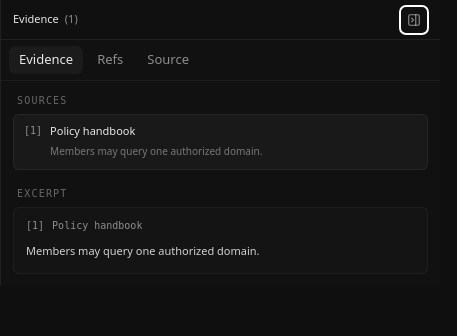
Test: chat inspector workbench (P9-03 Library enable) › keeps Open in Library disabled when opaque refs are missing
Click the tab with test id "inspector-tab-source".
click(168, 60)  # box [137,46,199,74]
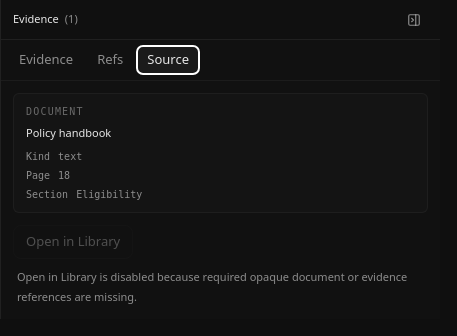
Check: the button with test id "open-in-library" is disabled, box [13,225,133,258]
Check: the message with test id "document-navigation-unavailable" shows "missing", box [17,268,407,304]
